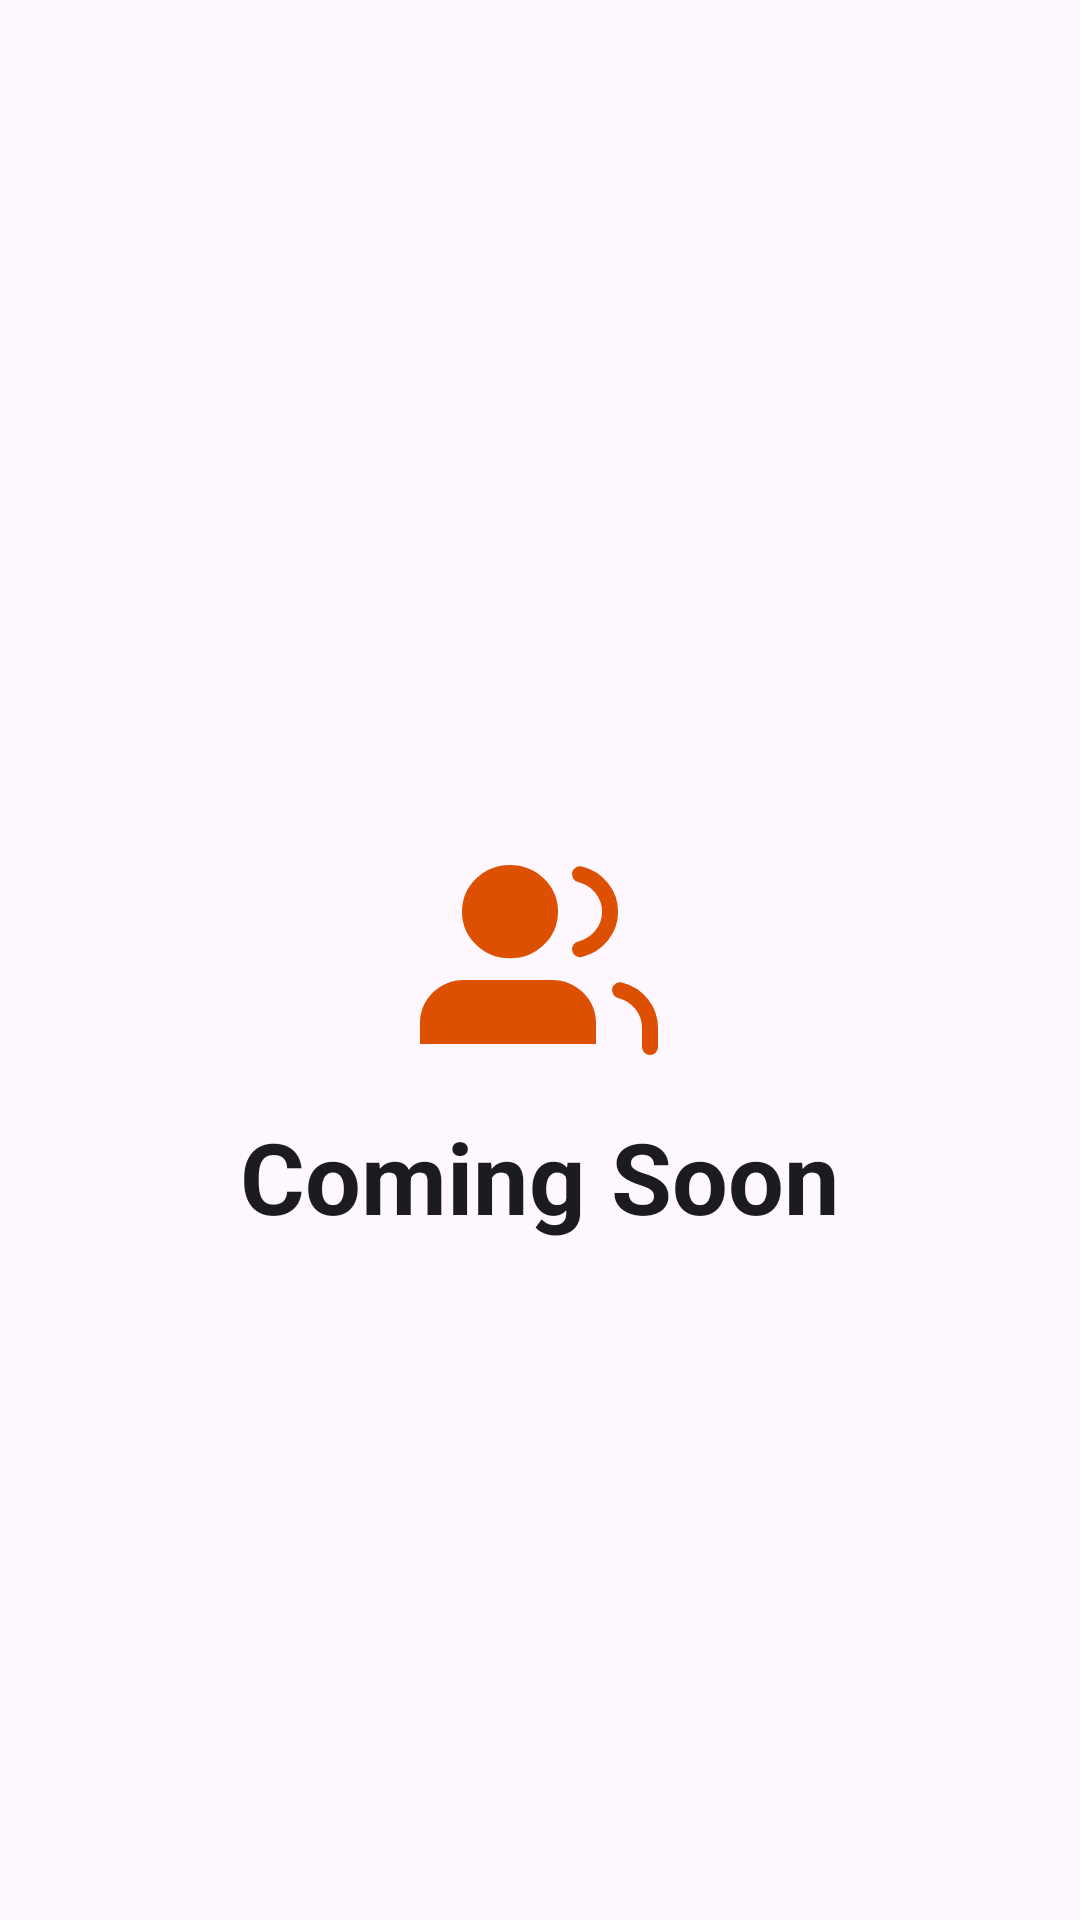

Point at icon controls on the screen. Image size 1080×1920, points as [x,y].
mentees: [539,960]
